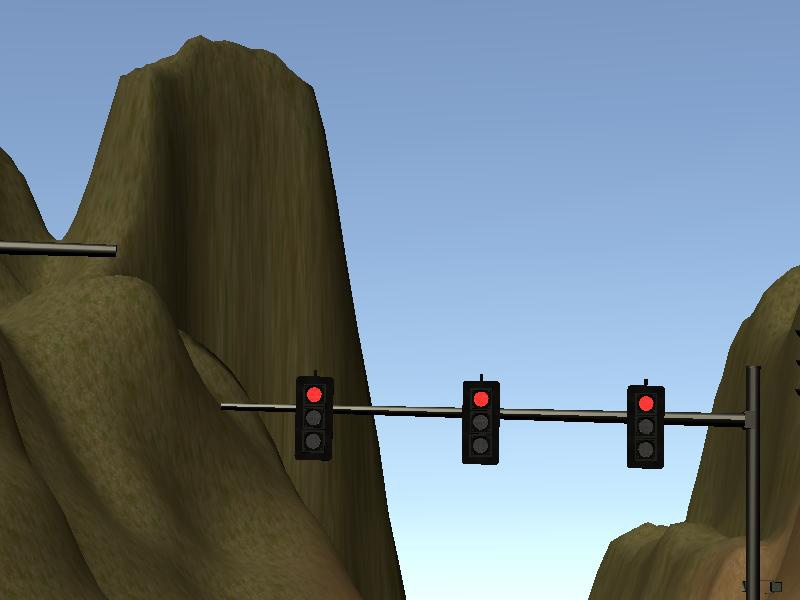red_light: (465, 383, 501, 463), (628, 386, 664, 465)
yellow_light: (296, 376, 328, 459)
